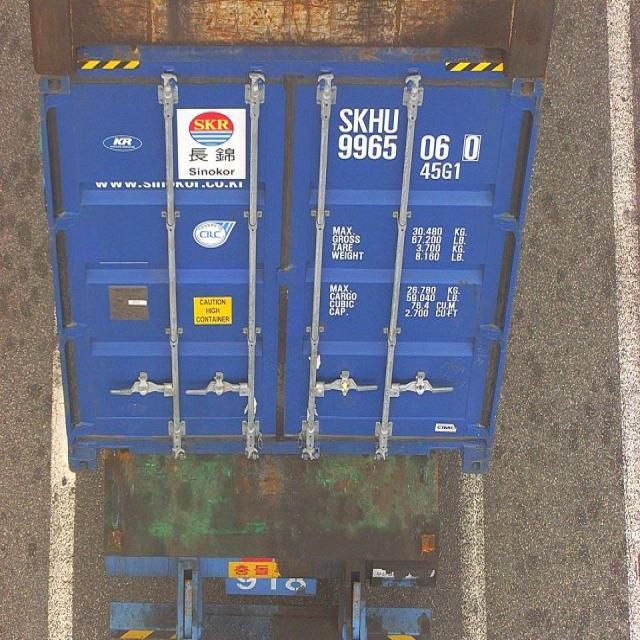ISO: (418, 162, 462, 184)
container_number: (338, 108, 485, 162)
